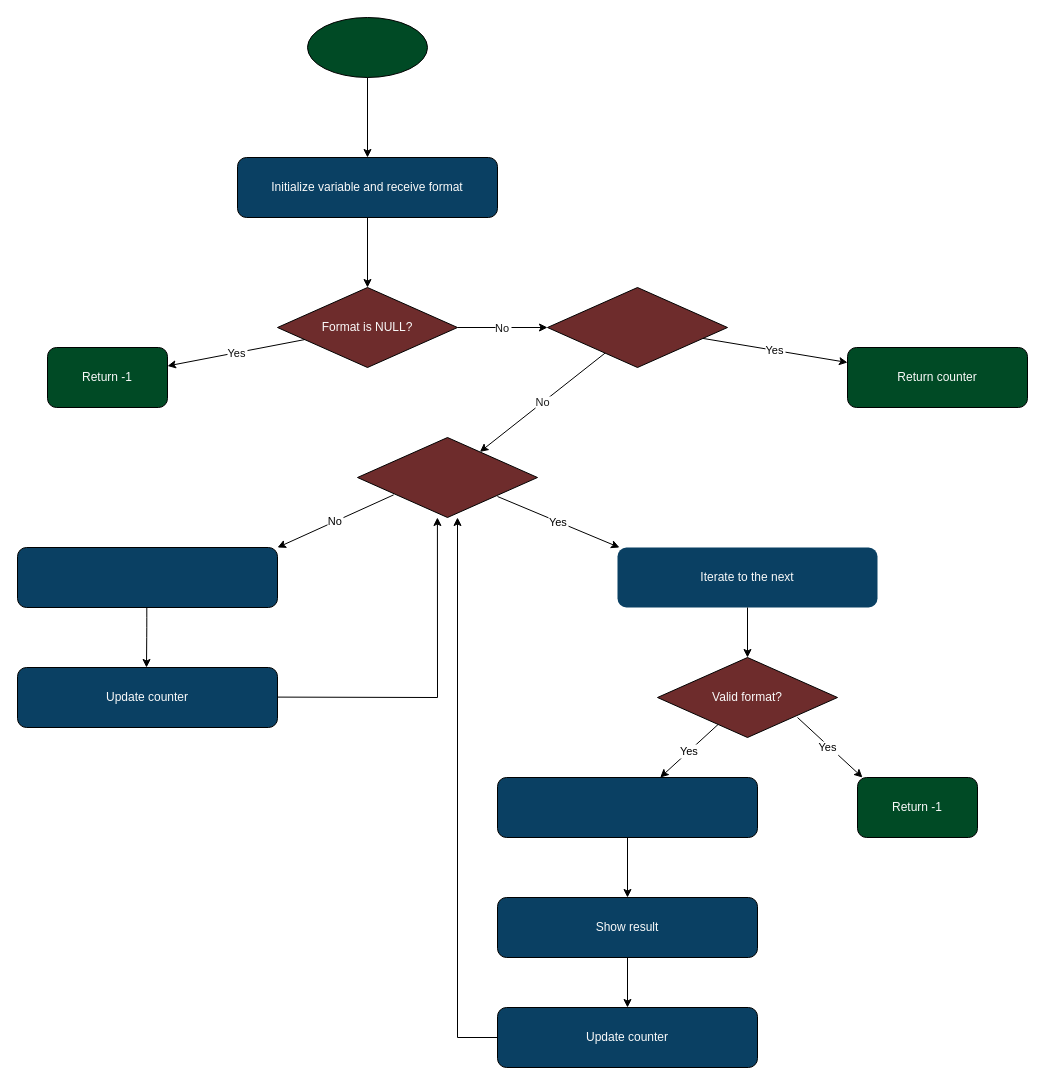
Some shapes in this 1045 by 1085 pixel diagram are drawn without their labels. Here are the shapes that lost their labels. From the top down, the centre of each, then its label:
At (367,47): "Start".
At (637,327): "Is it empty?".
At (447,477): "¿Is %?".
At (147,577): "Write the argument on the screen".
At (627,807): "Call the corresponding function".
